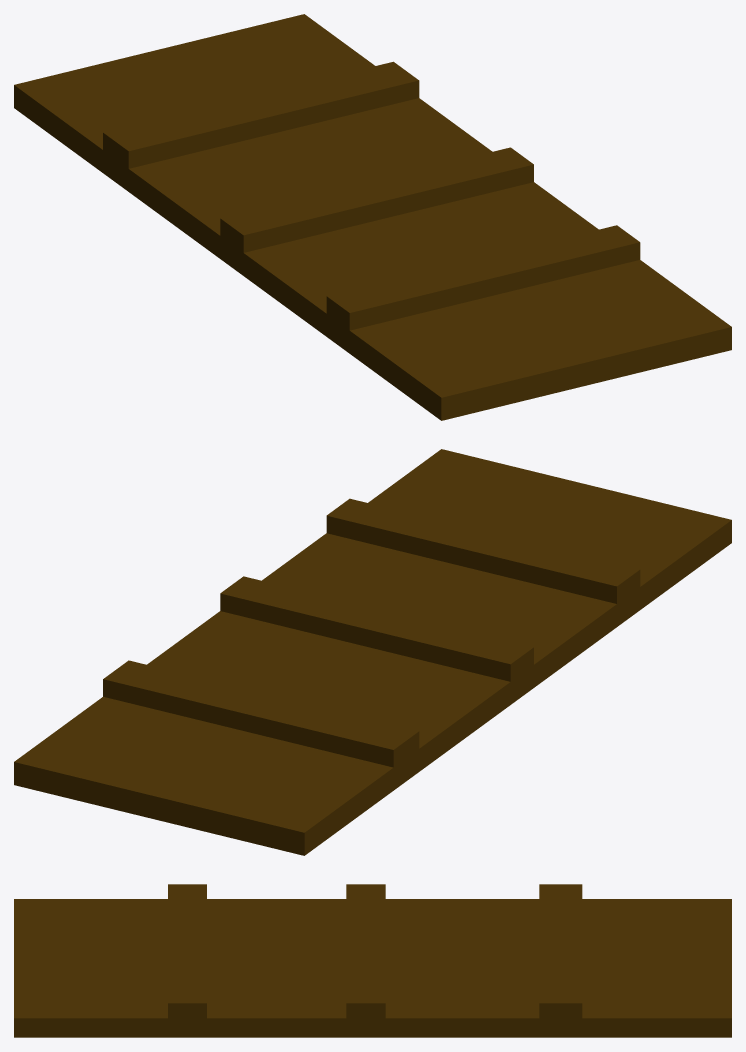
The model's file is stairs1.fbx.
3 renders of one model, top to bottom at view 1: azimuth 30°, elevation 25°; view 2: azimuth 150°, elevation 25°; view 3: azimuth 270°, elevation 25°, orthographic. The views are drawn at different scales.
Parts seen in each view (by area): view 1: pCube47; view 2: pCube47; view 3: pCube47.
Part boxes in pixels (x1,y1,x2,y2): pCube47: (14, 14, 731, 420); pCube47: (14, 449, 731, 855); pCube47: (14, 884, 731, 1037).
Size of the model in its own units: 1.73 by 0.2323 by 4.42.
